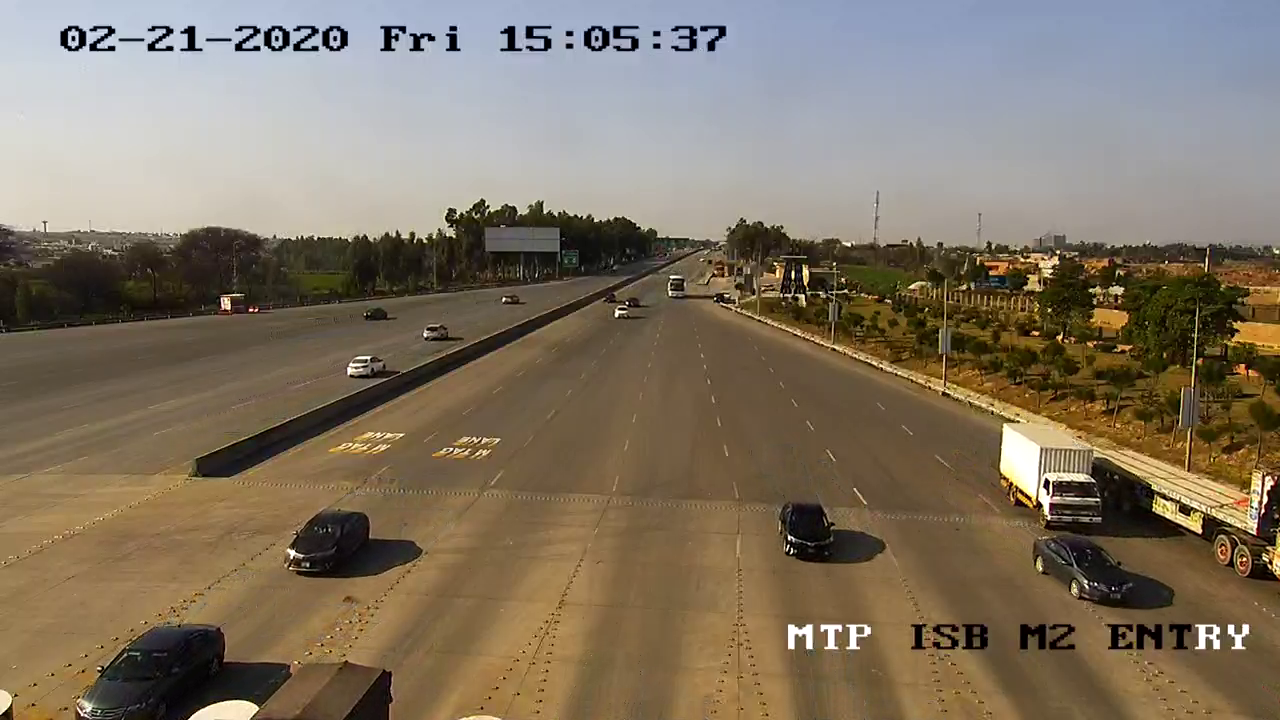f1: (1012, 526, 1145, 605), (268, 497, 377, 591), (759, 491, 854, 571)
f5: (983, 411, 1111, 540)
